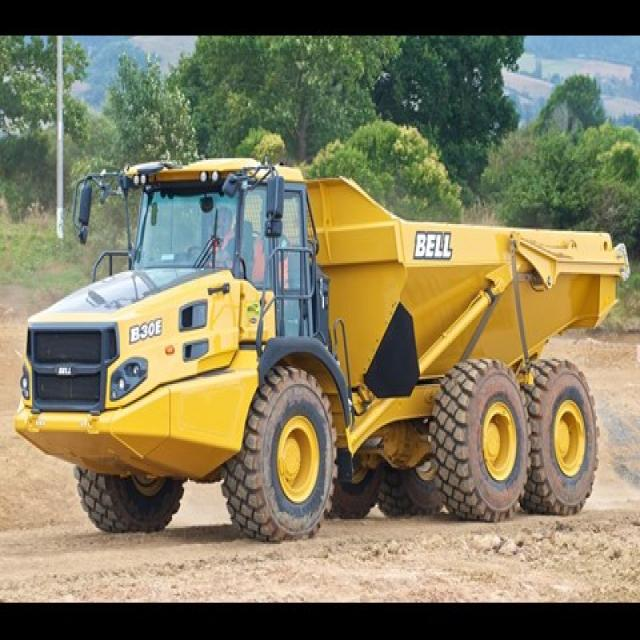dump_truck: (4, 138, 639, 540)
